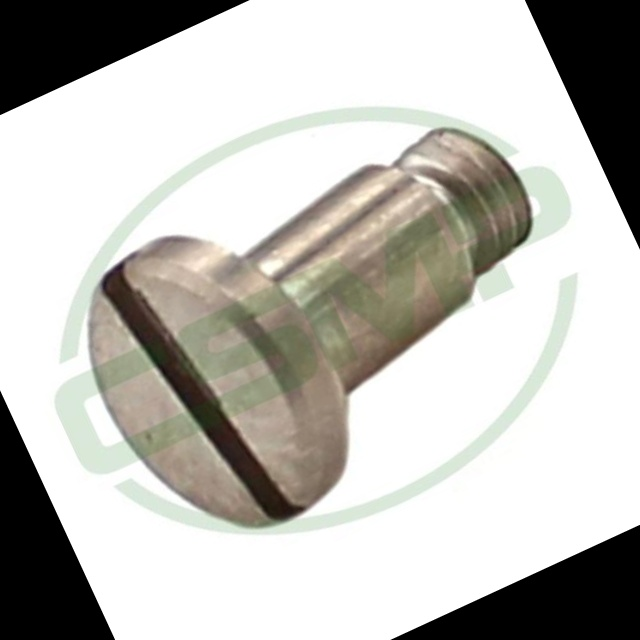duz: (46, 194, 381, 574)
